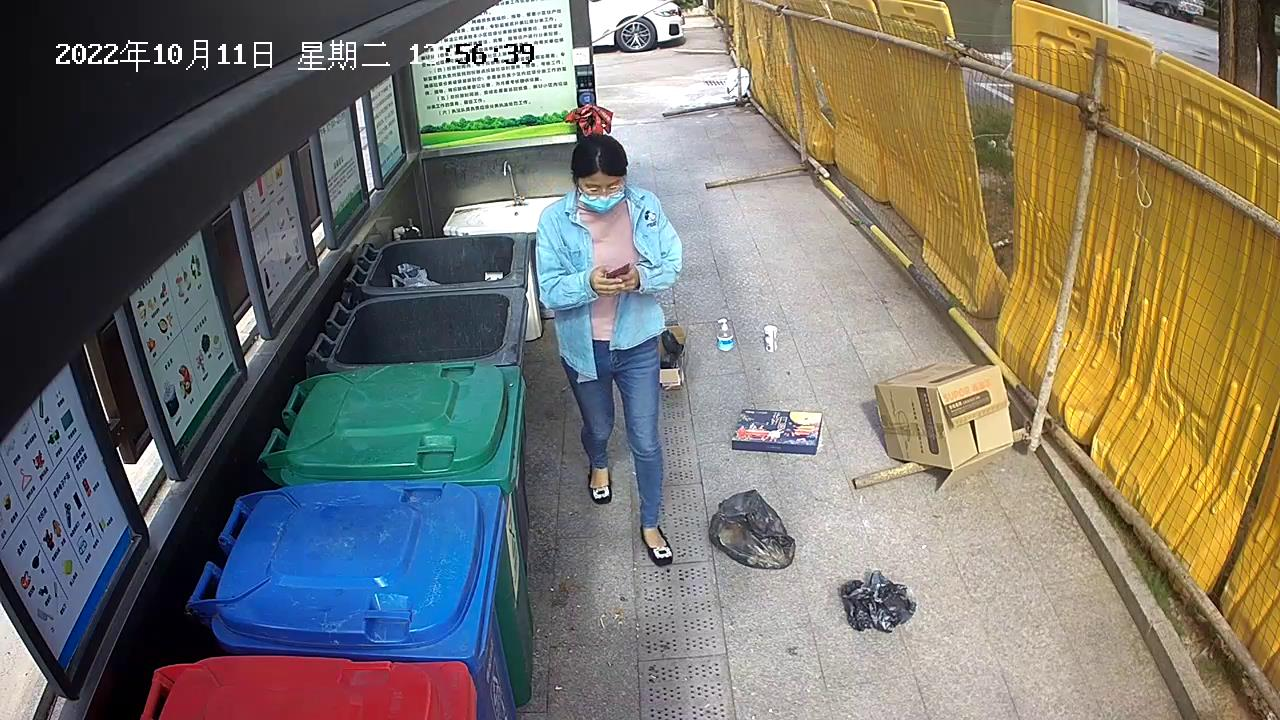garbage-bag: (704, 487, 801, 575), (833, 566, 922, 639)
lvzhipin: (759, 319, 782, 356)
suliaozhipin: (713, 314, 739, 355)
worker: (530, 130, 686, 570)
zhizhipin: (869, 357, 1024, 497), (727, 403, 830, 460)
